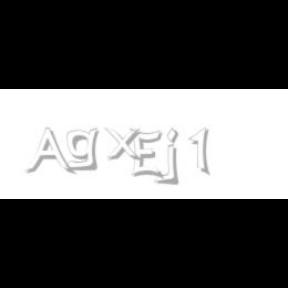1: (188, 128, 210, 176)
A: (25, 128, 73, 176)
E: (130, 128, 162, 180)
g: (66, 128, 102, 171)
j: (164, 128, 192, 186)
x: (104, 128, 146, 162)
